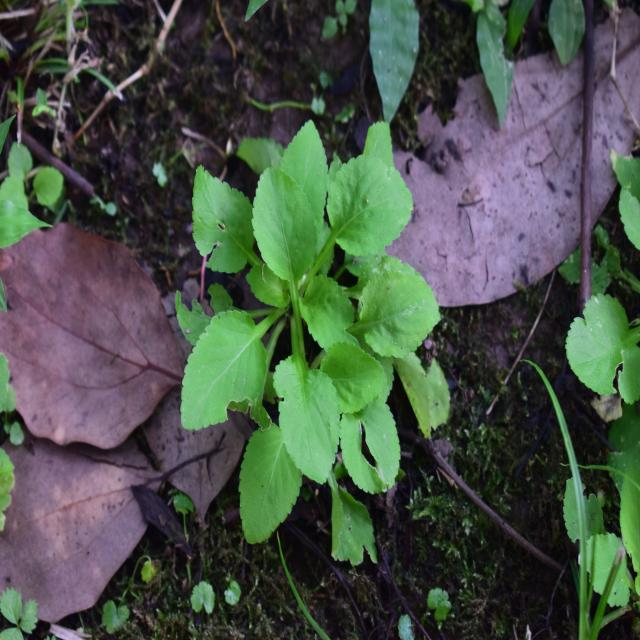Viola: (186, 120, 444, 543)
